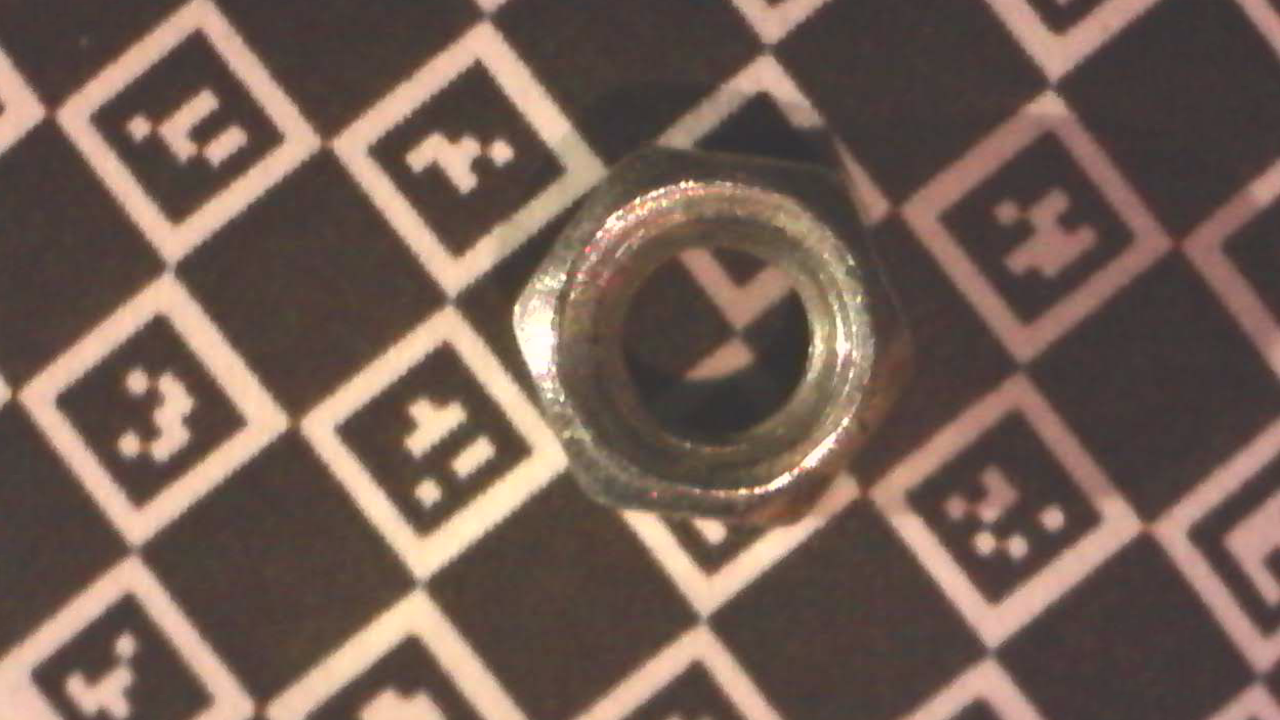Bolt: (507, 148, 918, 523)
